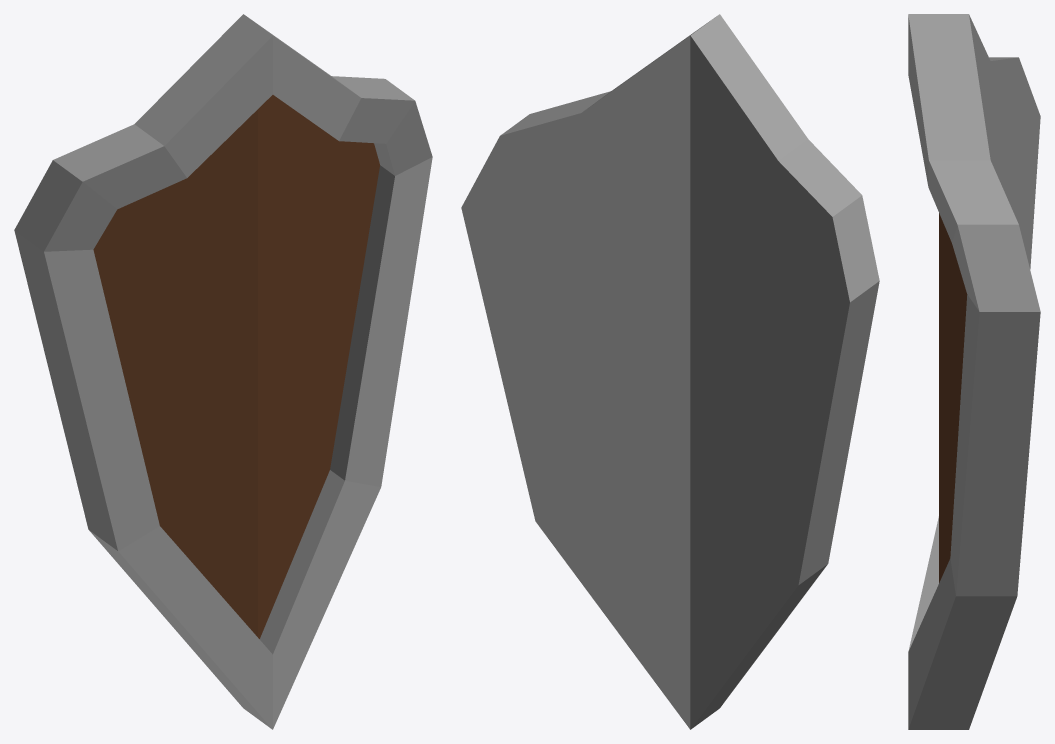
File: LP_Shield.fbx
The picture shows the model from 3 angles, left to right: view 1: azimuth 30°, elevation 25°; view 2: azimuth 150°, elevation 25°; view 3: azimuth 270°, elevation 25°; orthographic projection. The views are drawn at different scales.
Visible parts, largest first — view 1: Plane; view 2: Plane; view 3: Plane.
Boxes of the visible parts, bbox=[...] form: Plane: bbox=[14, 14, 432, 729]; Plane: bbox=[461, 14, 879, 729]; Plane: bbox=[908, 14, 1040, 729].
Size of the model in its own units: 379 by 647 by 108.
